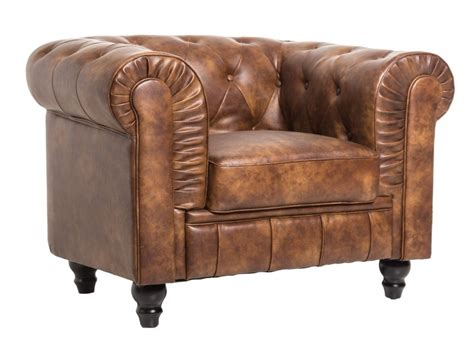cuero: (26, 33, 455, 287)
